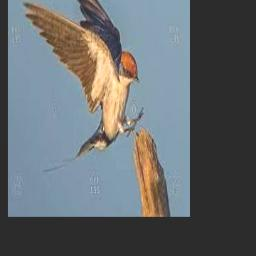Swallow: (20, 0, 144, 173)
